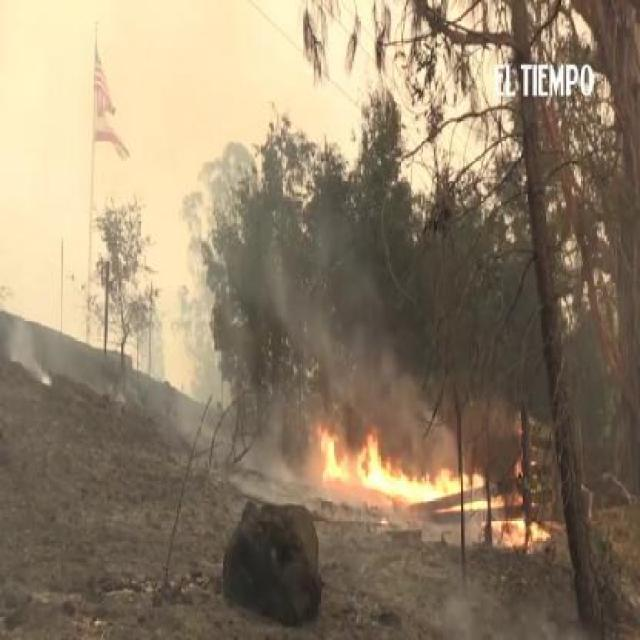Fire: (367, 460, 482, 498), (490, 511, 550, 547), (318, 426, 342, 479), (360, 429, 386, 460)
